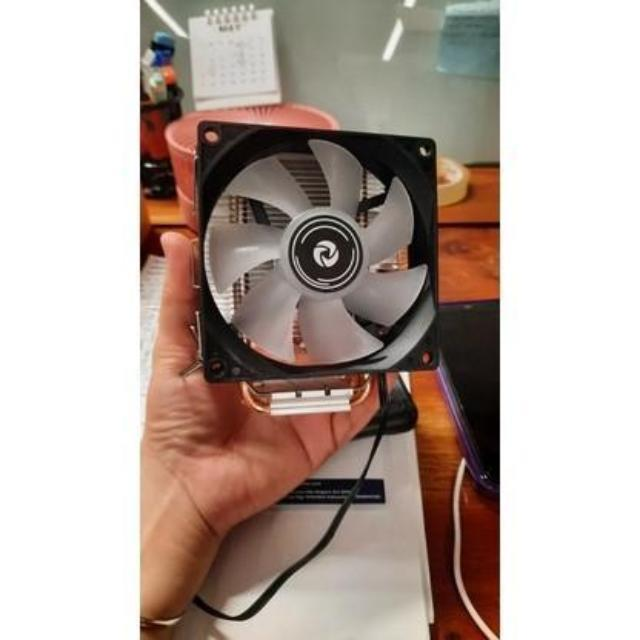CPU_Fan: (190, 136, 441, 412)
